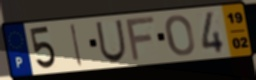4: (200, 9, 225, 56)
5: (28, 25, 57, 71)
F: (124, 14, 157, 63)
I: (69, 22, 84, 68)
O: (164, 14, 197, 58)
U: (94, 19, 128, 64)
